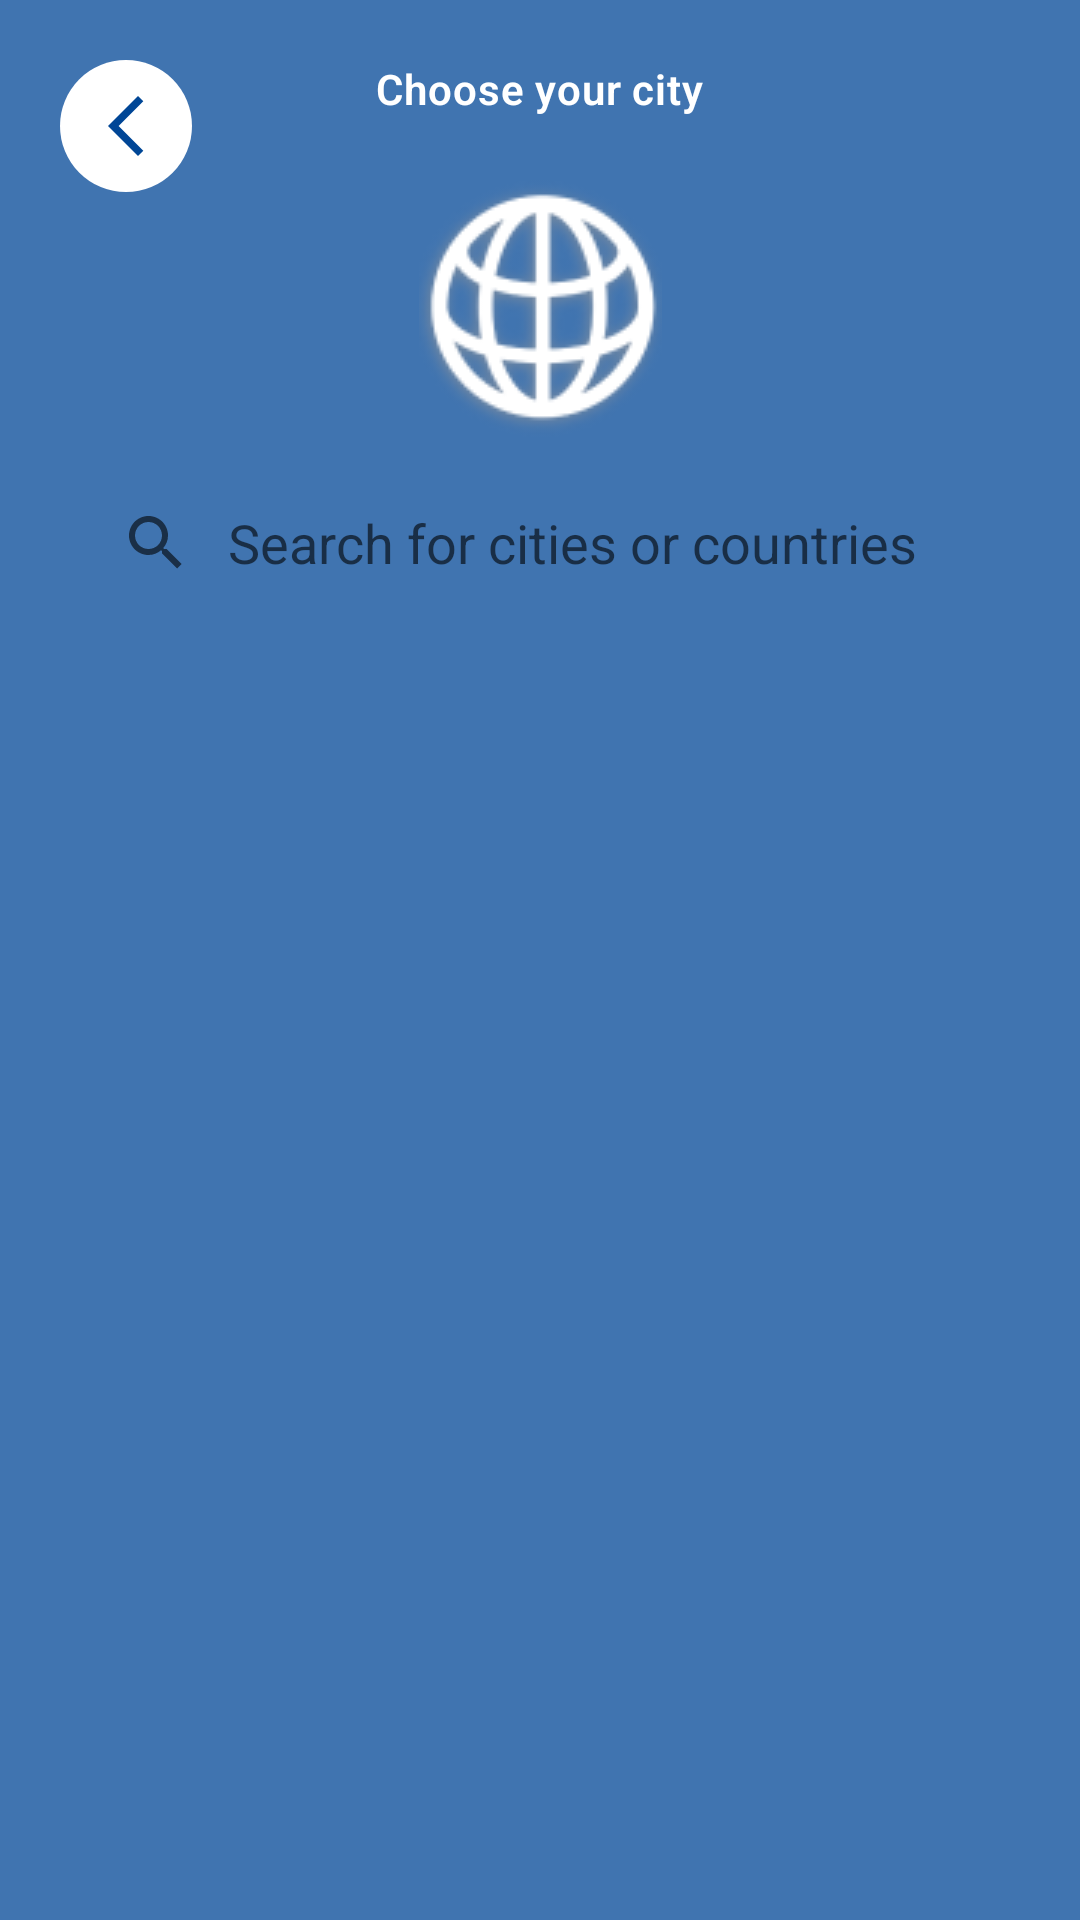

Named icons in this screenshot (1080 × 1920) and their bounding boxes, (x1, y1, x2, y2):
arrow back: (60, 60, 192, 192)
globe: (427, 194, 657, 422)
